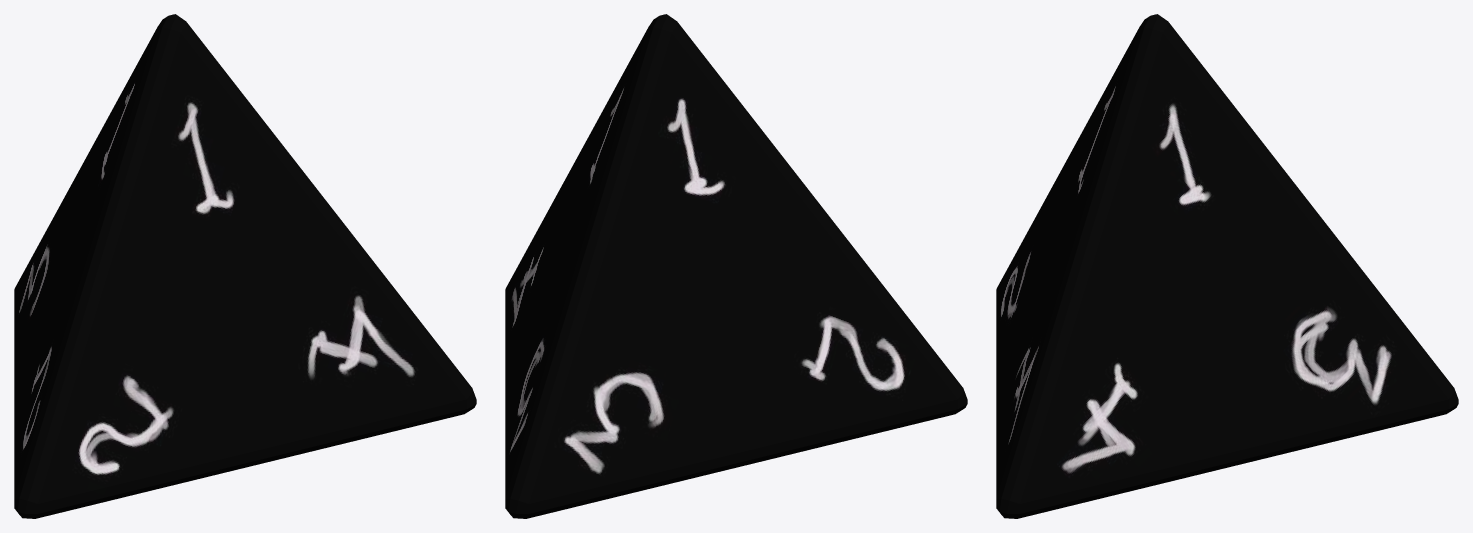
3 views of the same model, side by side, from view 1: azimuth 30°, elevation 25°; view 2: azimuth 150°, elevation 25°; view 3: azimuth 270°, elevation 25° (orthographic).
Parts seen in each view (by area): view 1: d4; view 2: d4; view 3: d4.
Boxes of the visible parts, bbox=[...] form: d4: bbox=[14, 14, 476, 518]; d4: bbox=[505, 14, 967, 518]; d4: bbox=[996, 14, 1458, 518].
Bounding box in the file's own units: 7.12 × 5.89 × 6.21.
Materials: 1 (1 with a texture image).
